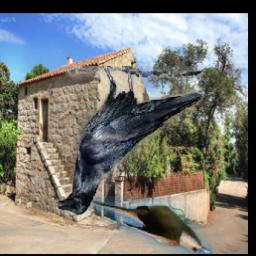Crow: (55, 66, 202, 215)
Cuckoo: (81, 196, 212, 254)
